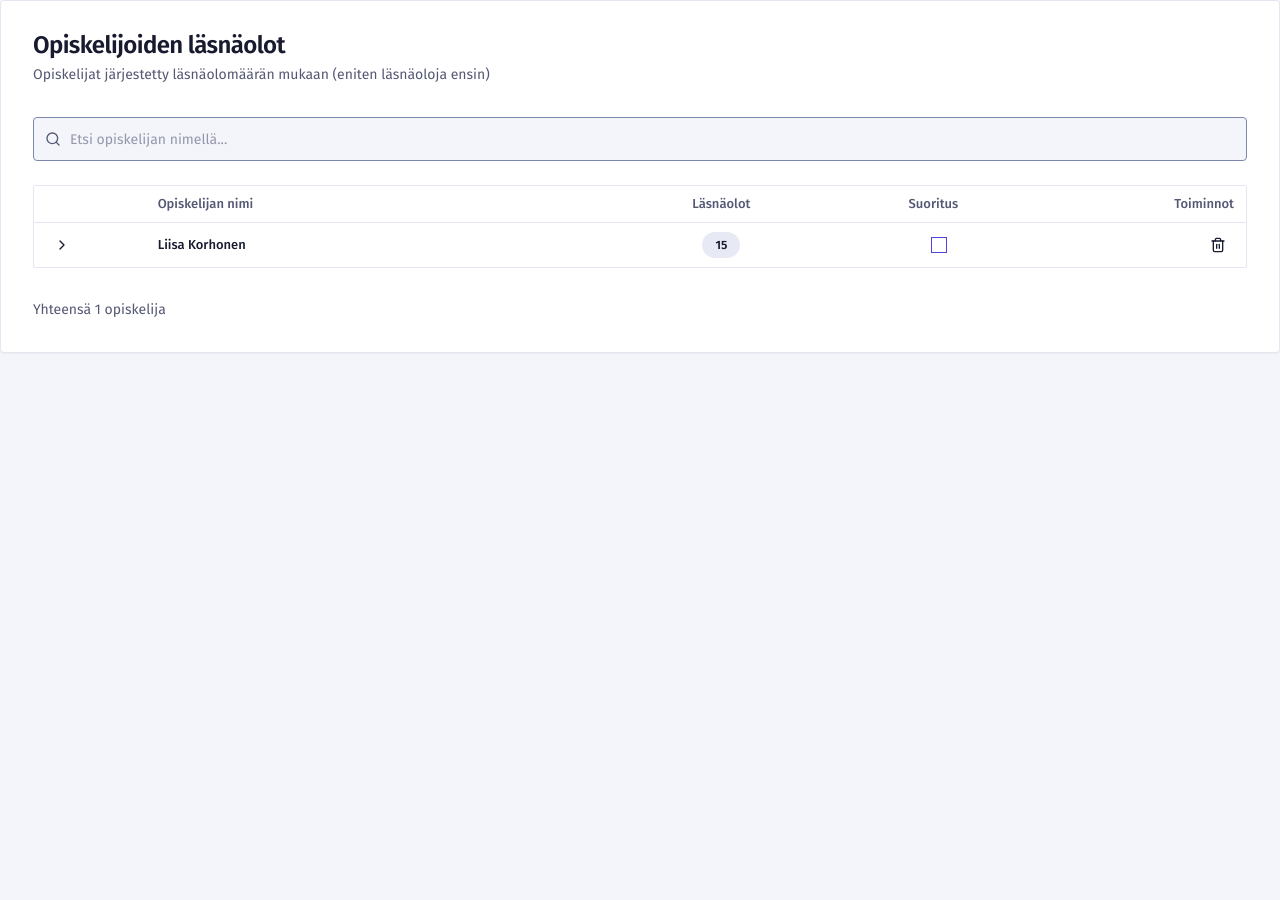
Test case: StudentLogs — deleting a student asks first › deletes nothing when the question is declined
This screenshot has width=1280, height=900.
Click the button named "Poista opiskelija" at (1218, 244), box top-left (1202, 228), bottom-right (1234, 260)
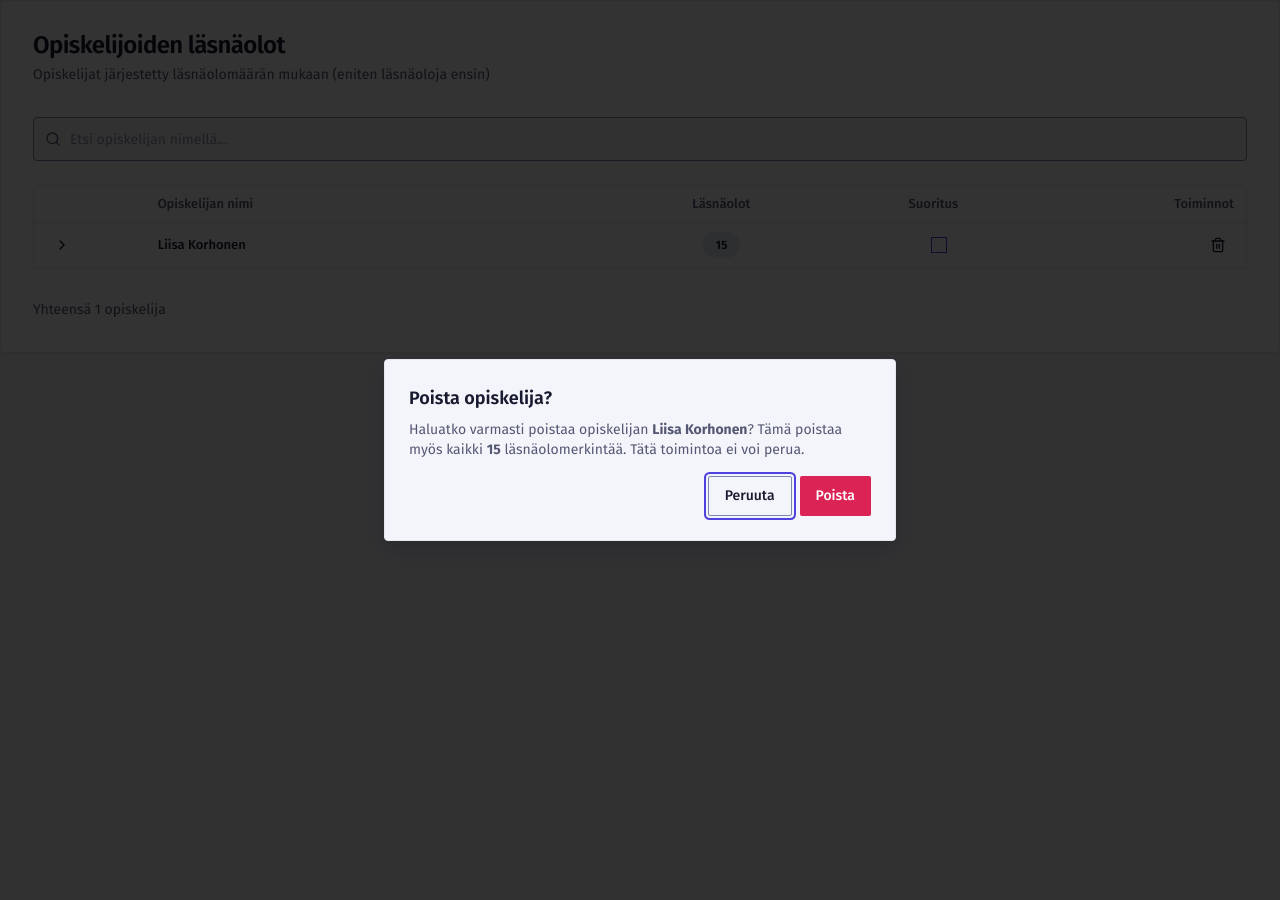
Click the button "Peruuta" at (750, 496), box top-left (708, 476), bottom-right (792, 516)
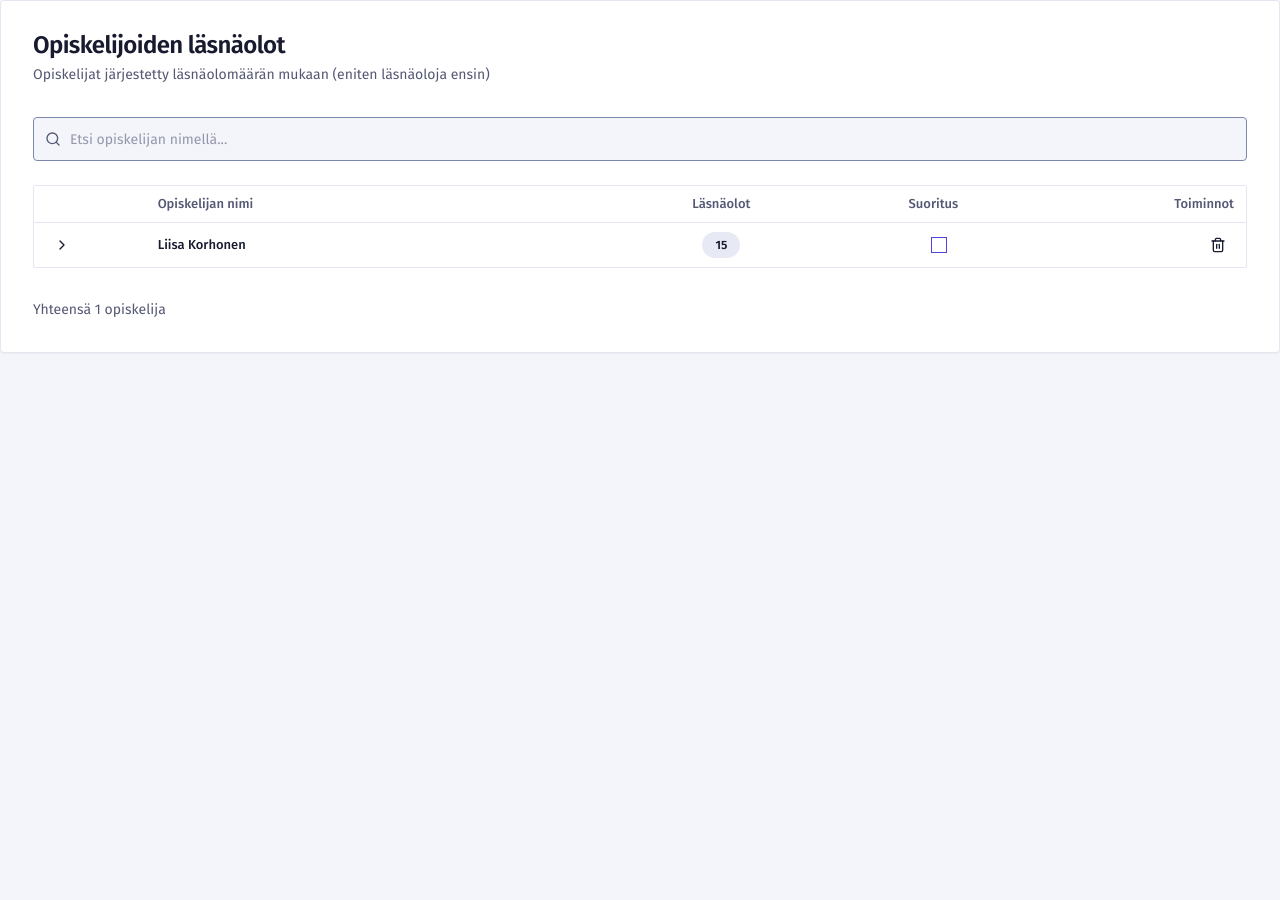
Now the dialog is gone
